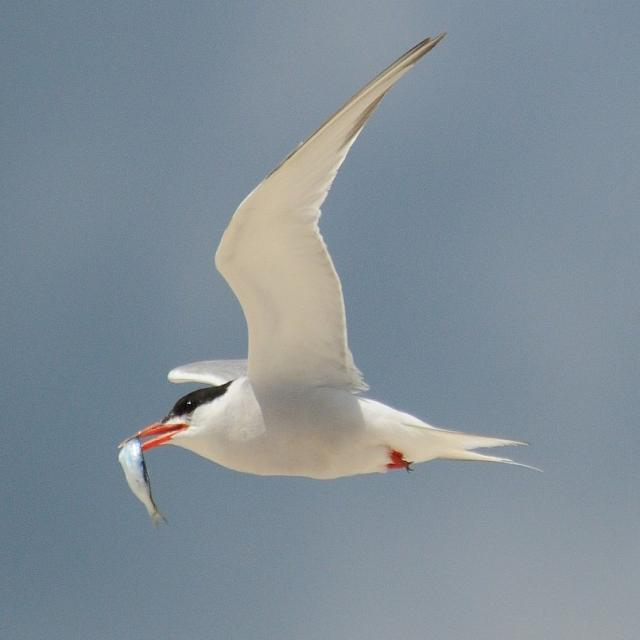bird: (90, 25, 556, 527)
